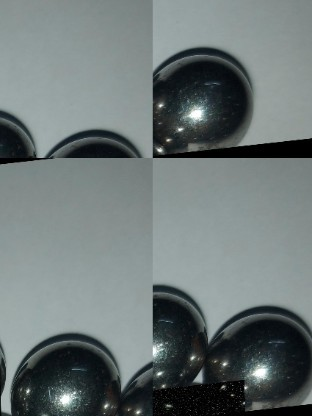ironball: (203, 296, 311, 415), (154, 47, 247, 153), (15, 333, 119, 414), (152, 275, 202, 402), (40, 125, 151, 161), (152, 383, 242, 415), (0, 106, 44, 163), (122, 360, 150, 416)
